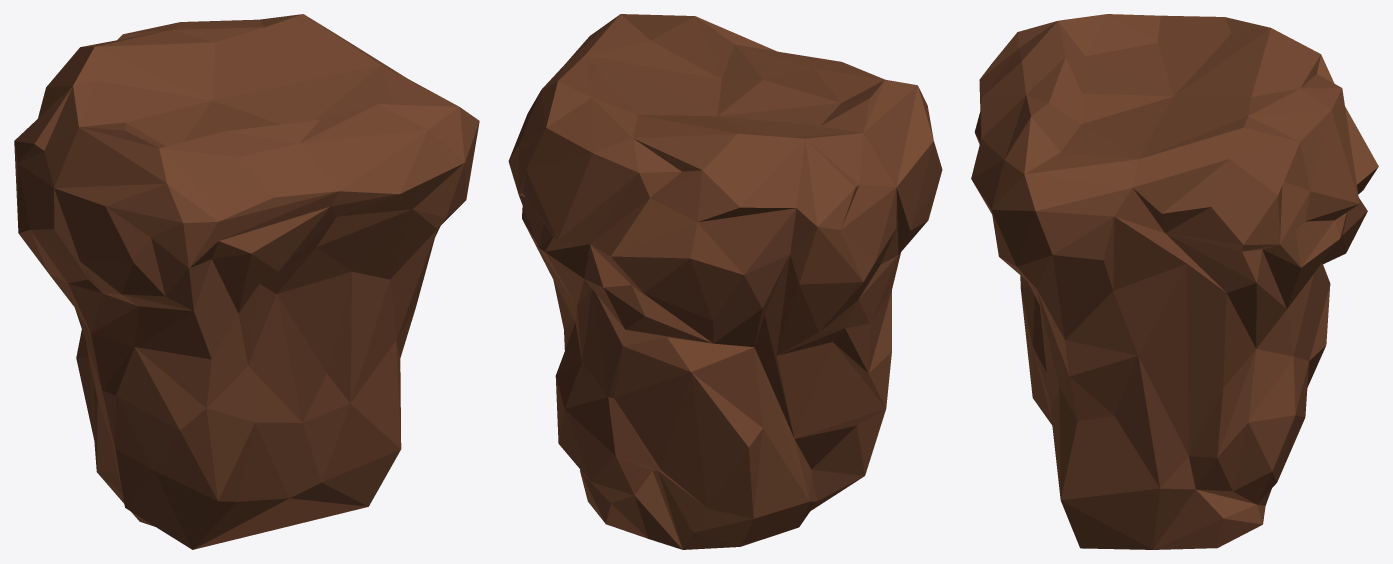
The model's file is SM_cliff_02.fbx.
3 views of the same model, side by side, from view 1: azimuth 30°, elevation 25°; view 2: azimuth 150°, elevation 25°; view 3: azimuth 270°, elevation 25° (orthographic).
Visible parts, largest first — view 1: cliff_02; view 2: cliff_02; view 3: cliff_02.
Part boxes in pixels (x1,y1,x2,y2): cliff_02: (14, 14, 479, 549); cliff_02: (508, 14, 942, 549); cliff_02: (971, 14, 1378, 549).
Bounding box in the file's own units: 1823 × 2131 × 1737.
